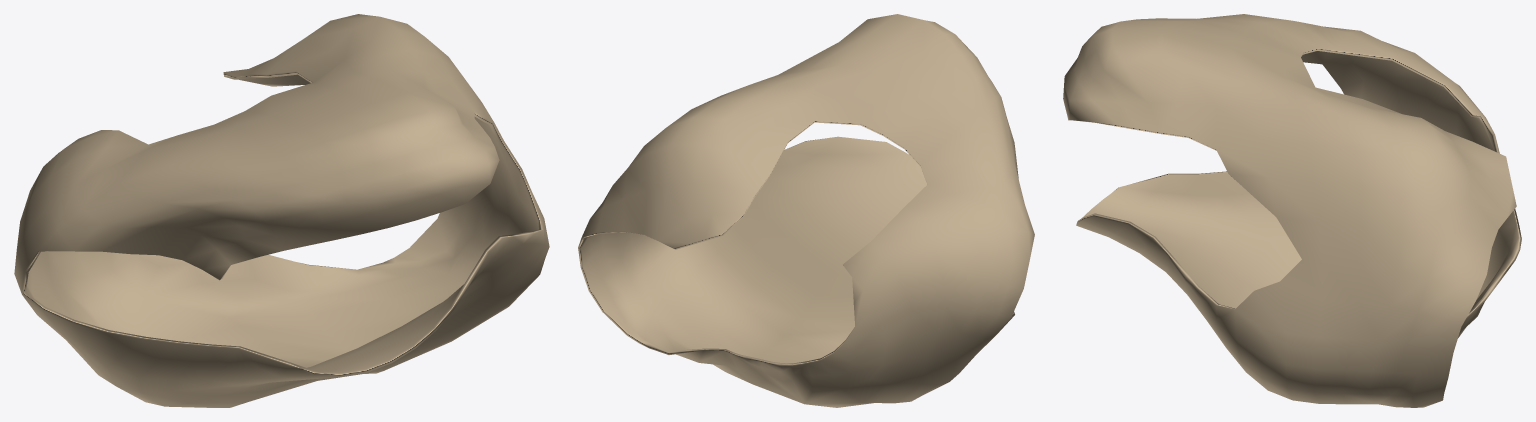
3 renders of one model, left to right at view 1: azimuth 30°, elevation 25°; view 2: azimuth 150°, elevation 25°; view 3: azimuth 270°, elevation 25°, orthographic. The views are drawn at different scales.
Parts seen in each view (by area): view 1: 左侧肘关节囊; view 2: 左侧肘关节囊; view 3: 左侧肘关节囊.
Boxes of the visible parts, left/top/right/bottom form: 左侧肘关节囊: left=14, top=14, right=549, bottom=407; 左侧肘关节囊: left=578, top=14, right=1034, bottom=407; 左侧肘关节囊: left=1063, top=14, right=1521, bottom=407.
Bounding box in the file's own units: 0.0901 × 0.0623 × 0.0784.
